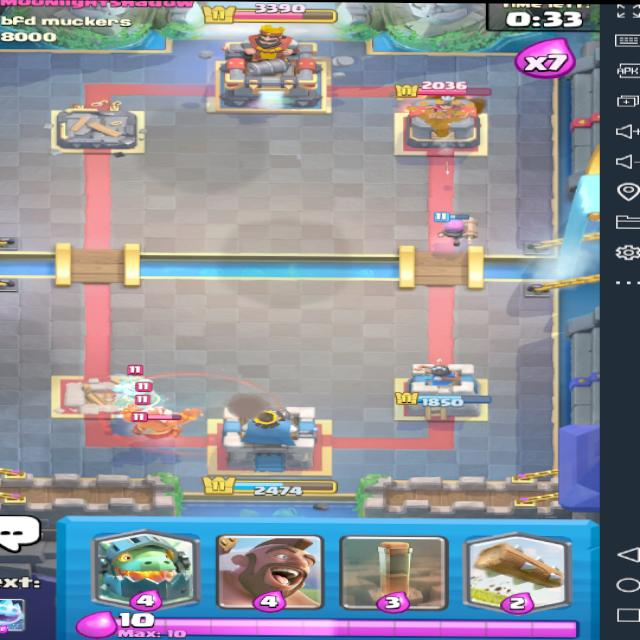clone: (101, 368, 285, 458)
monk: (119, 405, 205, 447)
